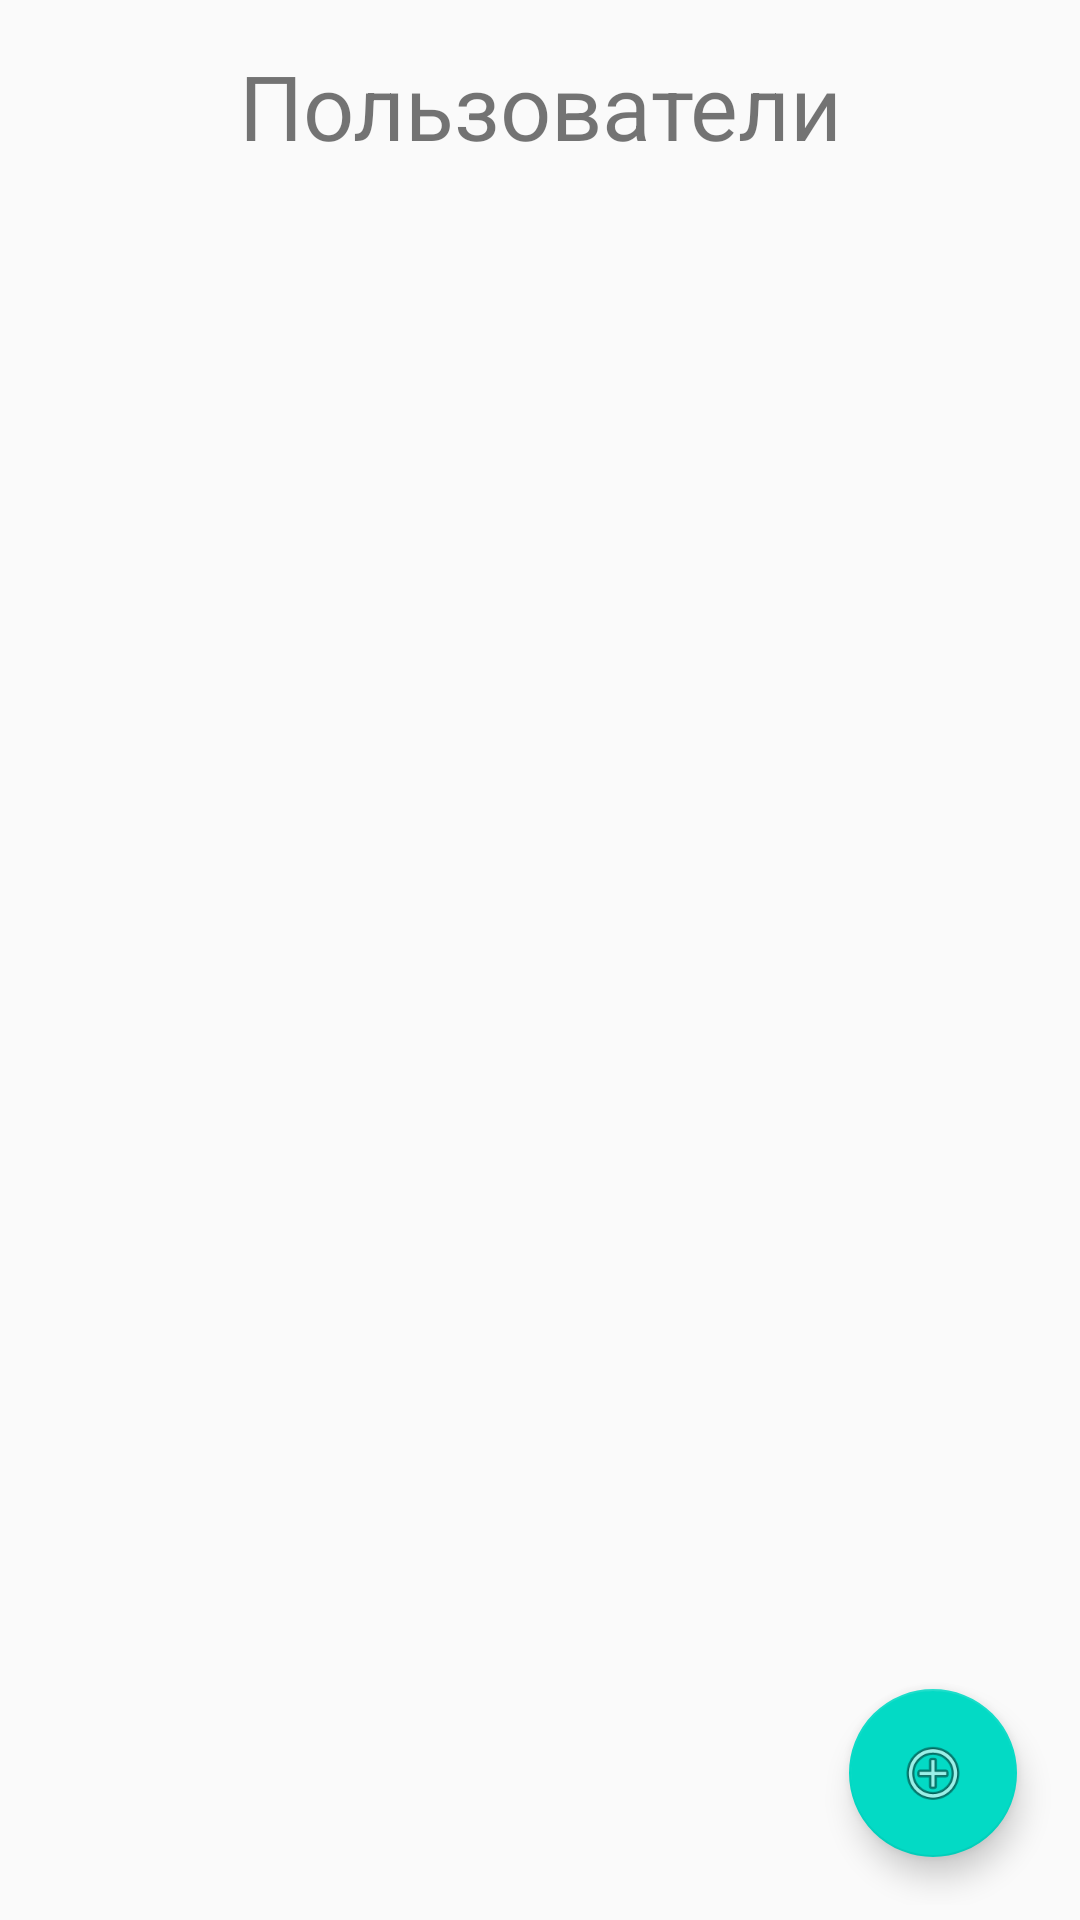

Locate icon controls on the screen. Image size 1080w x 1920h, boxes as (left=x1, top=y1, right=x2, bottom=y2).
add: (left=849, top=1689, right=1017, bottom=1857)
